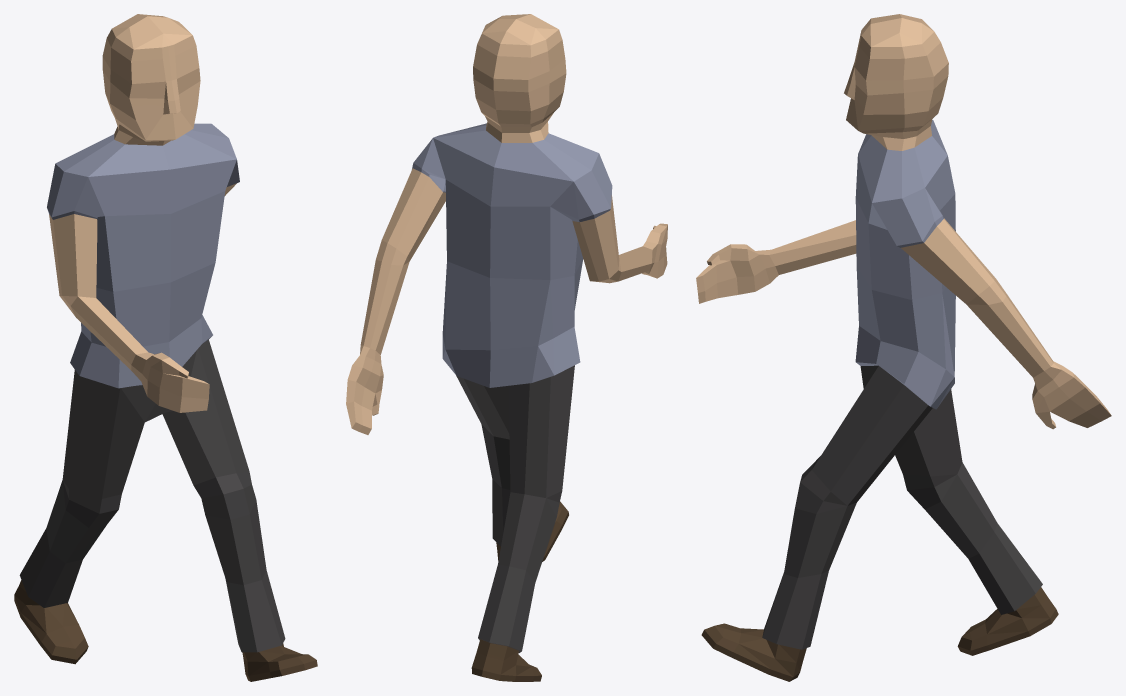
Rendered from Male_Running.glb.
3 renders of one model, left to right at view 1: azimuth 30°, elevation 25°; view 2: azimuth 150°, elevation 25°; view 3: azimuth 270°, elevation 25°, orthographic. The views are drawn at different scales.
Visible parts, largest first — view 1: Male_Running; view 2: Male_Running; view 3: Male_Running.
Part boxes in pixels (x1=…): Male_Running: x1=14, y1=14, x2=317, y2=681; Male_Running: x1=346, y1=14, x2=667, y2=681; Male_Running: x1=696, y1=14, x2=1111, y2=681.
Bounding box in the file's own units: 1.21 × 3.85 × 2.21.
